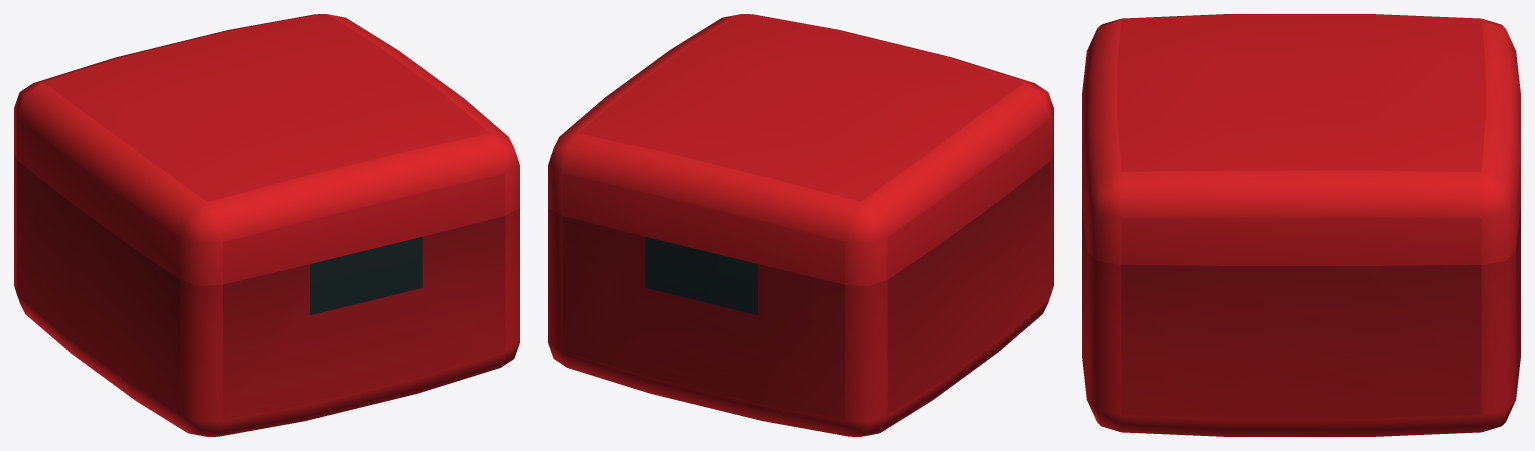
File: box2_LOD_setup.fbx
3 views of the same model, side by side, from view 1: azimuth 30°, elevation 25°; view 2: azimuth 150°, elevation 25°; view 3: azimuth 270°, elevation 25° (orthographic). The views are drawn at different scales.
Parts seen in each view (by area): view 1: box2_LOD0; view 2: box2_LOD0; view 3: box2_LOD0.
Boxes of the visible parts, bbox=[...] form: box2_LOD0: bbox=[14, 14, 519, 436]; box2_LOD0: bbox=[548, 14, 1053, 436]; box2_LOD0: bbox=[1082, 14, 1520, 436].
Size of what is drawn, in the model's own units: 38.32 by 26.38 by 38.33.
